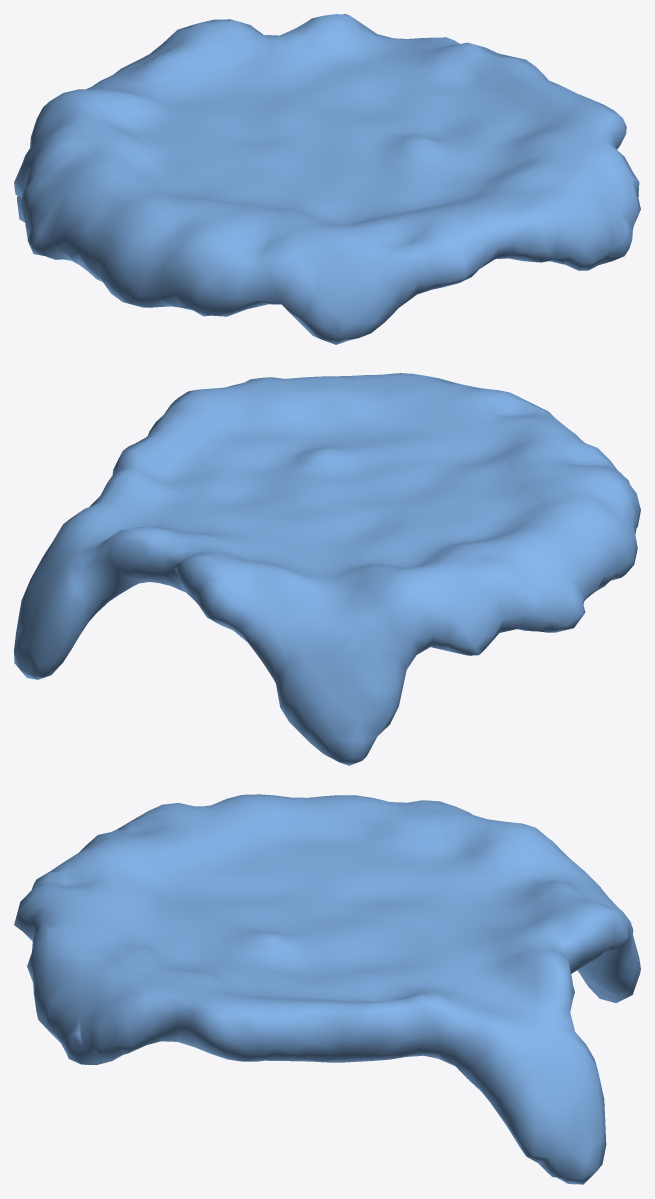
The model's file is BarrelFluid.fbx.
The picture shows the model from 3 angles, top to bottom: view 1: azimuth 30°, elevation 25°; view 2: azimuth 150°, elevation 25°; view 3: azimuth 270°, elevation 25°; orthographic projection. The views are drawn at different scales.
Visible parts, largest first — view 1: Fluid; view 2: Fluid; view 3: Fluid.
Boxes of the visible parts, x1,y1,x2,y2 form: Fluid: (14,14,640,344); Fluid: (14,373,640,765); Fluid: (14,794,640,1184).
Bounding box in the file's own units: 58.51 × 18.95 × 60.36.
